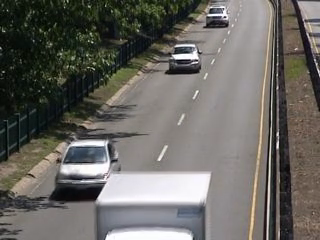car: (50, 134, 125, 198), (164, 40, 204, 76), (203, 3, 232, 30)
truck: (91, 166, 219, 240)
